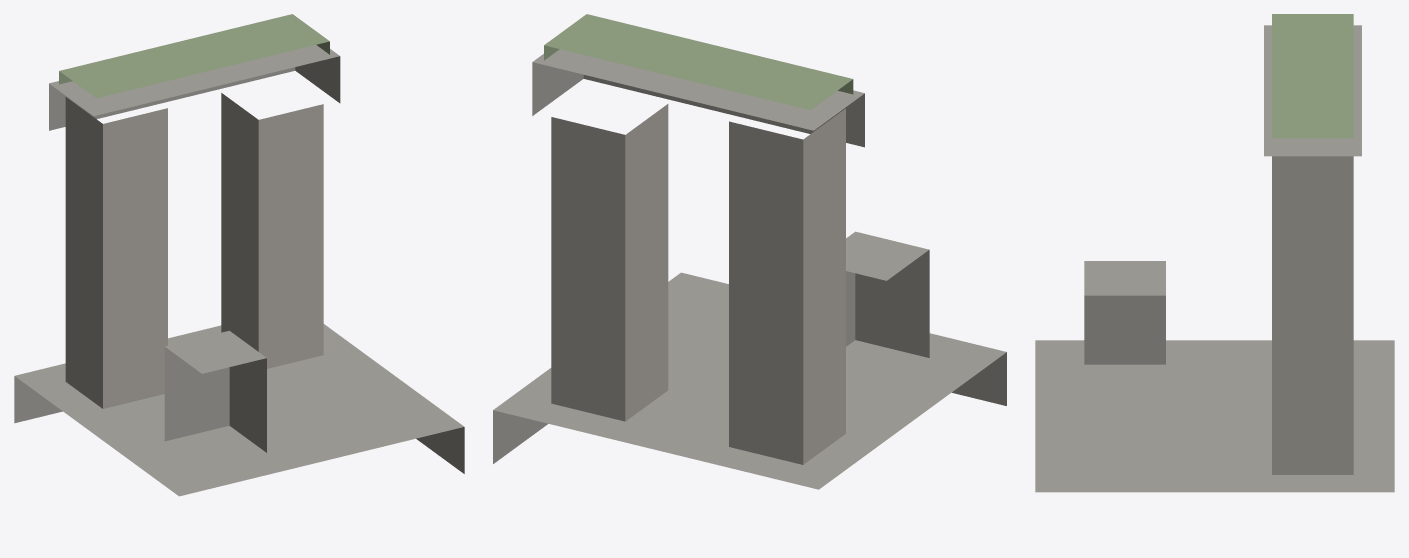
The model's file is ancient_ruins.glb.
3 views of the same model, side by side, from view 1: azimuth 30°, elevation 25°; view 2: azimuth 150°, elevation 25°; view 3: azimuth 270°, elevation 25° (orthographic). The views are drawn at different scales.
Visible parts, largest first — view 1: Ruin_Stone_Base, Ruin_Stone_Weathered, Moss_Highland; view 2: Ruin_Stone_Base, Ruin_Stone_Weathered, Moss_Highland; view 3: Ruin_Stone_Weathered, Ruin_Stone_Base, Moss_Highland.
Boxes of the visible parts, box(x1,y1,x2,y2) form: Ruin_Stone_Base: box(65, 93, 323, 408); Ruin_Stone_Weathered: box(14, 45, 464, 496); Moss_Highland: box(59, 14, 329, 98); Ruin_Stone_Base: box(551, 104, 845, 464); Ruin_Stone_Weathered: box(493, 49, 1006, 489); Moss_Highland: box(544, 14, 853, 110); Ruin_Stone_Weathered: box(1035, 25, 1394, 492); Ruin_Stone_Base: box(1272, 156, 1353, 474); Moss_Highland: box(1272, 14, 1353, 138).
Size of the model in its own units: 0.88 by 1.06 by 0.88.
